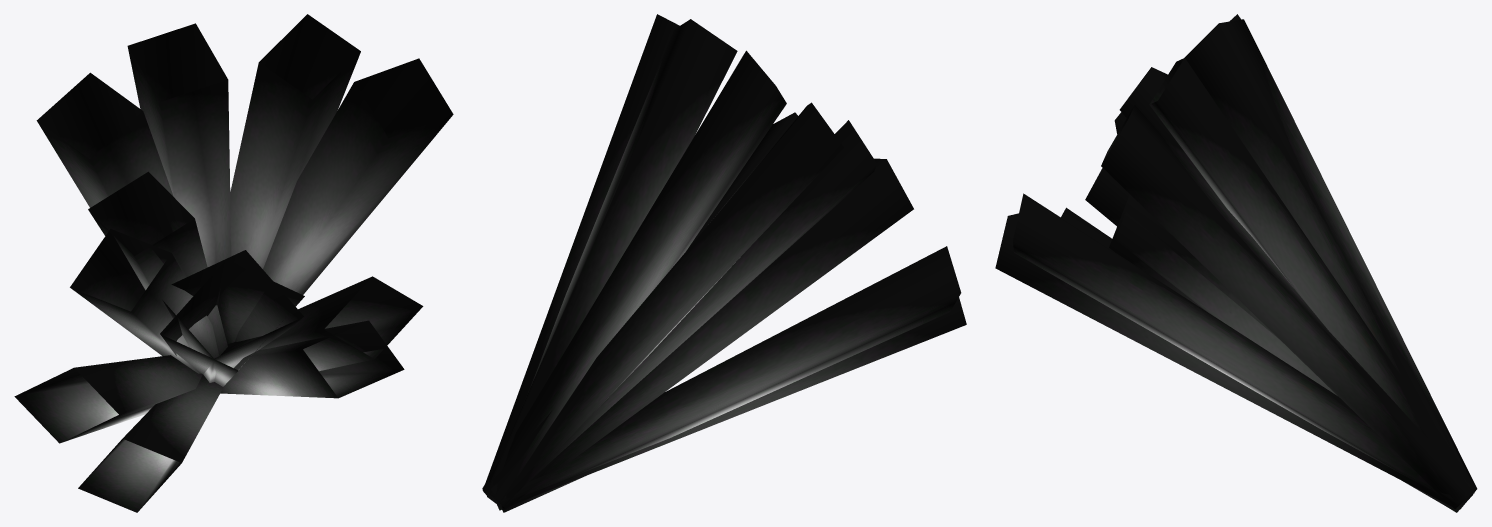
Rendered from Aura.FBX.
3 views of the same model, side by side, from view 1: azimuth 30°, elevation 25°; view 2: azimuth 150°, elevation 25°; view 3: azimuth 270°, elevation 25° (orthographic). The views are drawn at different scales.
Parts seen in each view (by area): view 1: Cylinder007; view 2: Cylinder007; view 3: Cylinder007.
Part boxes in pixels (x1,y1,x2,y2): Cylinder007: (14,14,453,512); Cylinder007: (482,14,966,512); Cylinder007: (995,14,1477,512).
Bounding box in the file's own units: 263 × 317 × 326.
